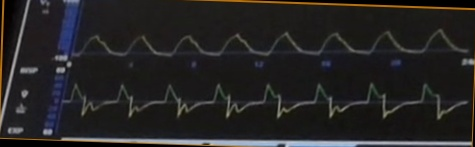Premature_cycling Flow: (68, 77, 467, 129)
Premature_cycling Volume: (77, 12, 470, 57)
